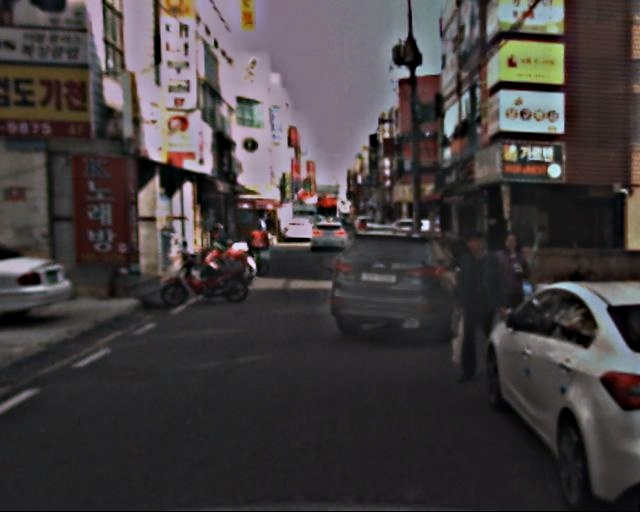person: (443, 230, 511, 385), (482, 233, 541, 365), (263, 214, 277, 248)
